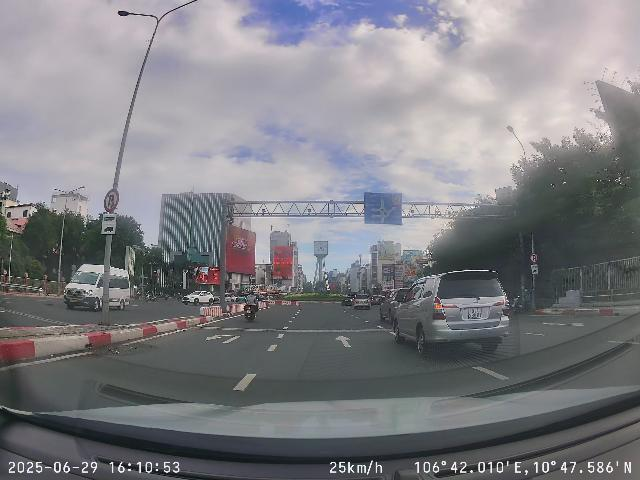124a-cam-quay-dau-xe: (104, 189, 119, 212), (530, 253, 539, 264)
